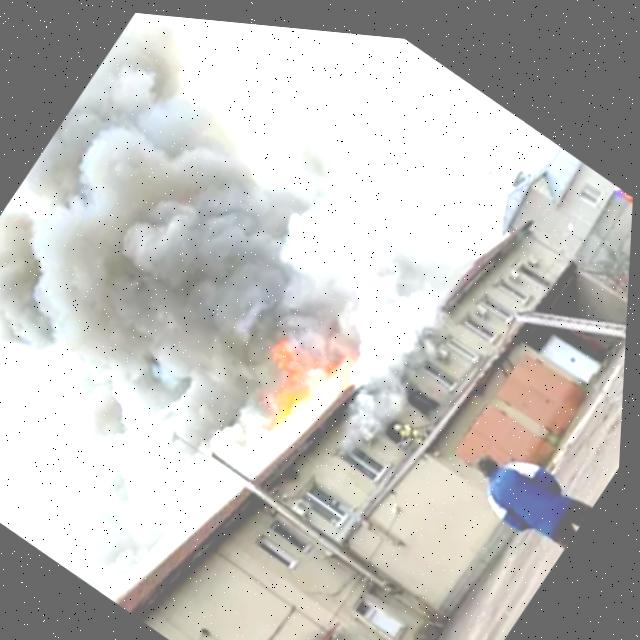Smoke: (0, 0, 454, 538)
